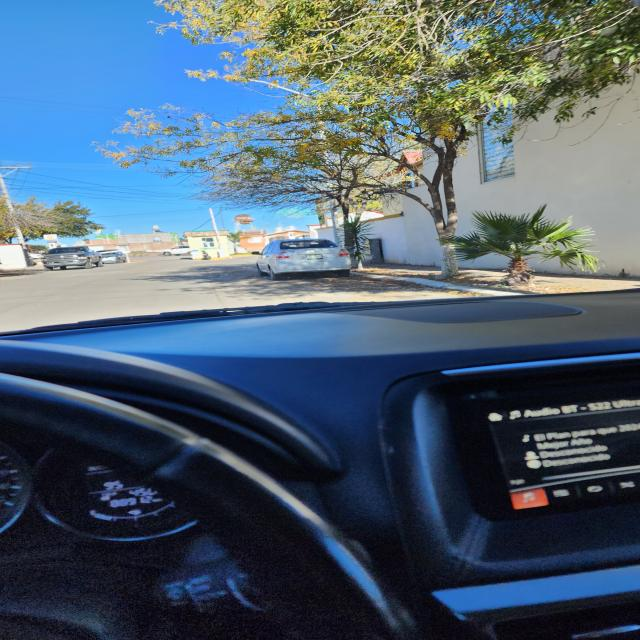Auto: (256, 237, 352, 280), (44, 247, 100, 270), (101, 250, 132, 265)
